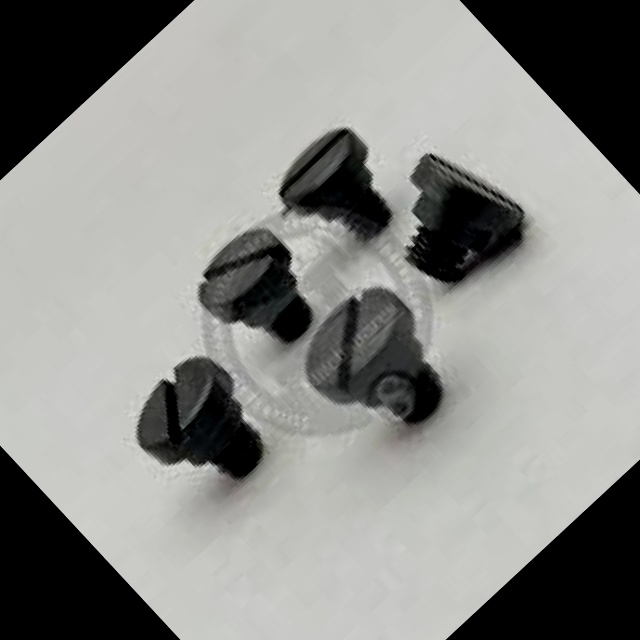duz: (281, 269, 427, 413), (113, 340, 246, 471), (180, 211, 303, 332), (265, 114, 376, 223)
